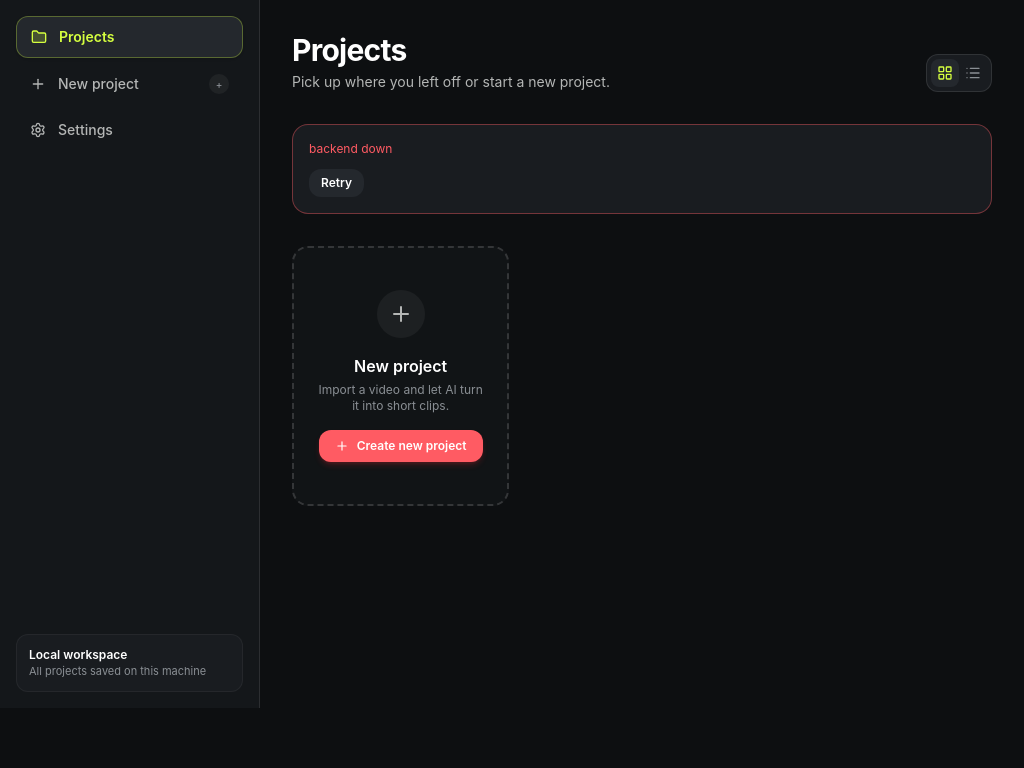
Test: Projects › shows an error with Retry that reloads
This screenshot has width=1024, height=768.
expect the message "backend down Retry" is shown: met, box [292,124,992,214]
Click the button "Retry" at point(336, 183), box [309,169,364,197]
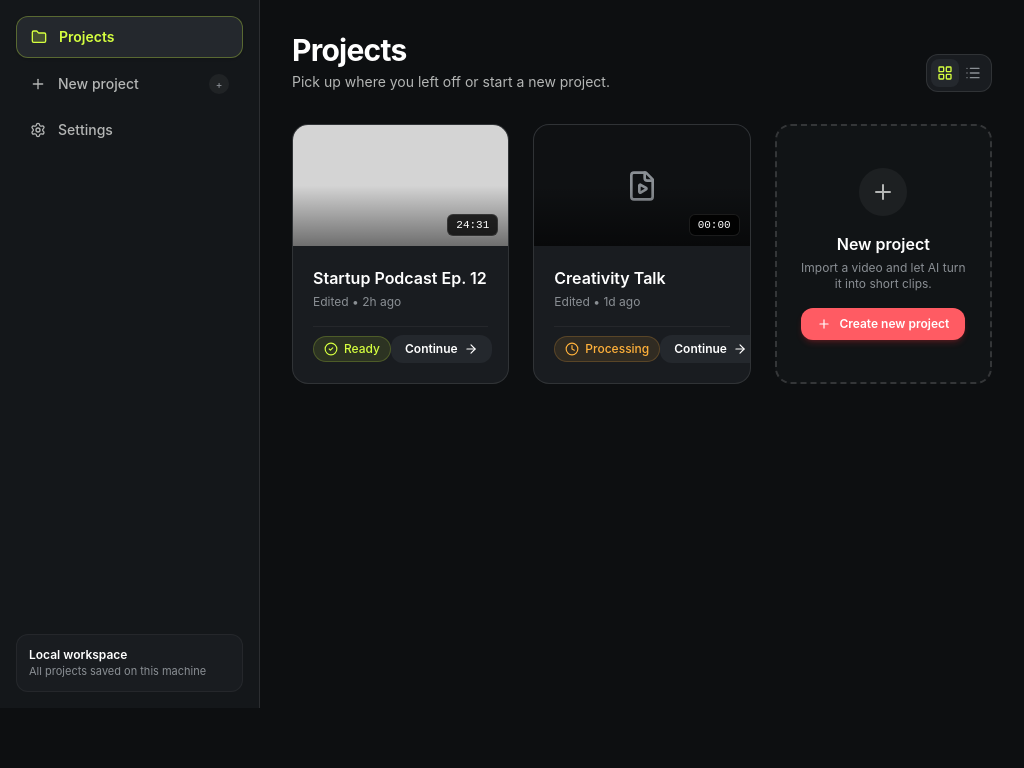
expect the heading "Startup Podcast Ep. 12" is shown: met, box [313,266,488,290]
